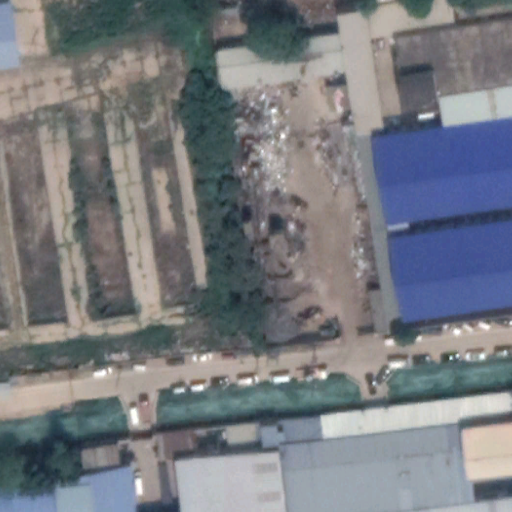msw: (311, 116, 375, 278), (229, 90, 283, 192)
